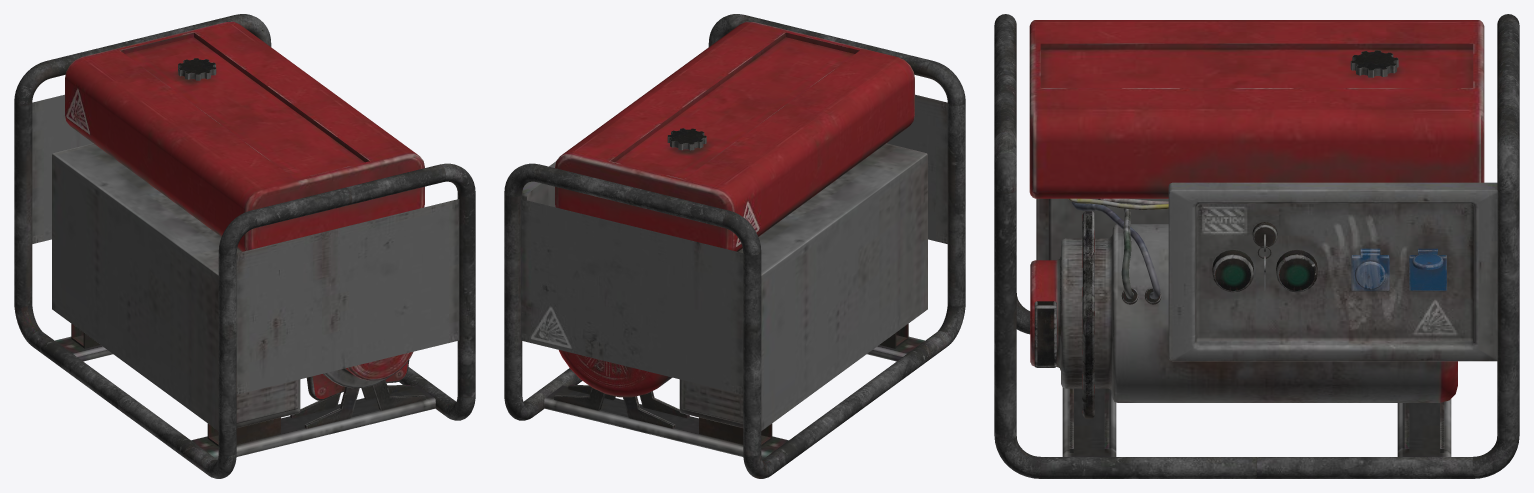
Rendered from SM_Power_Generator.glb.
The picture shows the model from 3 angles, left to right: view 1: azimuth 30°, elevation 25°; view 2: azimuth 150°, elevation 25°; view 3: azimuth 270°, elevation 25°; orthographic projection. The views are drawn at different scales.
Visible parts, largest first — view 1: SM_Power_Generator; view 2: SM_Power_Generator; view 3: SM_Power_Generator.
Boxes of the visible parts, box(x1,y1,x2,y2) form: SM_Power_Generator: box(14, 14, 475, 478); SM_Power_Generator: box(504, 14, 965, 478); SM_Power_Generator: box(994, 14, 1519, 478).
Bounding box in the file's own units: 0.602 × 0.5986 × 0.8232.
1 material, 1 textured.
